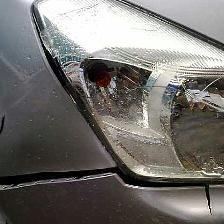bumper_scratch: (2, 1, 117, 181), (25, 3, 224, 88), (3, 174, 217, 223), (3, 161, 218, 195), (0, 4, 50, 91), (116, 167, 218, 190)
door_dent: (2, 118, 114, 182), (0, 176, 79, 221)
head_lamp: (4, 8, 221, 221), (78, 52, 224, 175)
